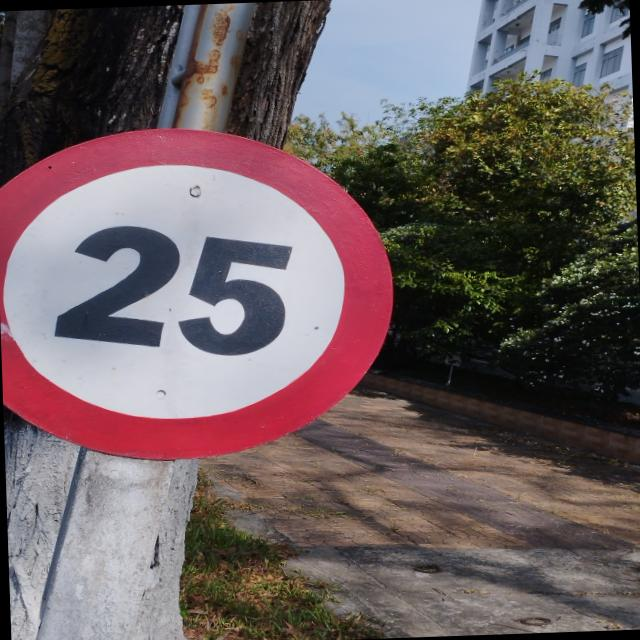Tre_Em: (0, 120, 397, 465)
